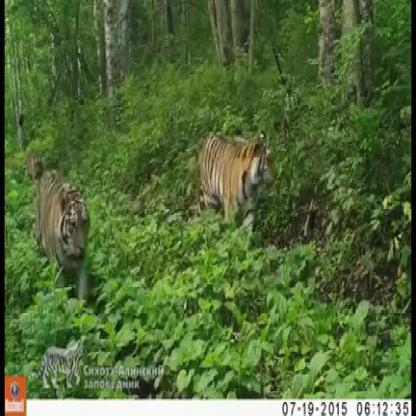Tiger: (26, 160, 98, 308), (188, 124, 274, 244)
